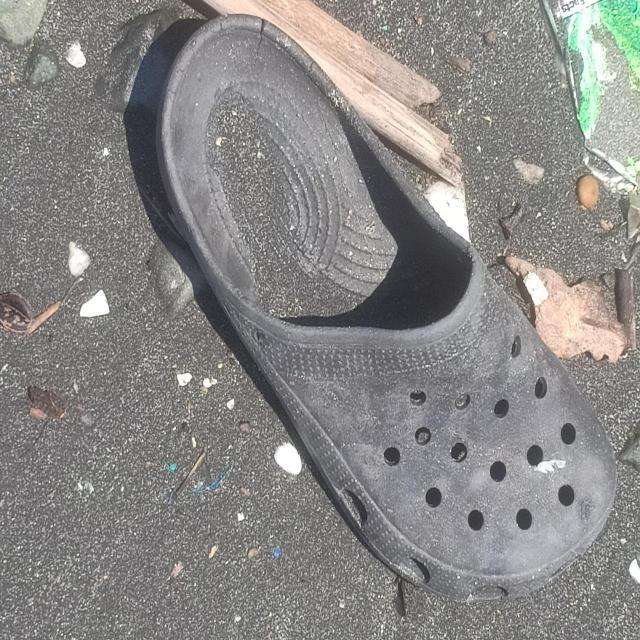rubber_waste: (160, 2, 622, 599)
